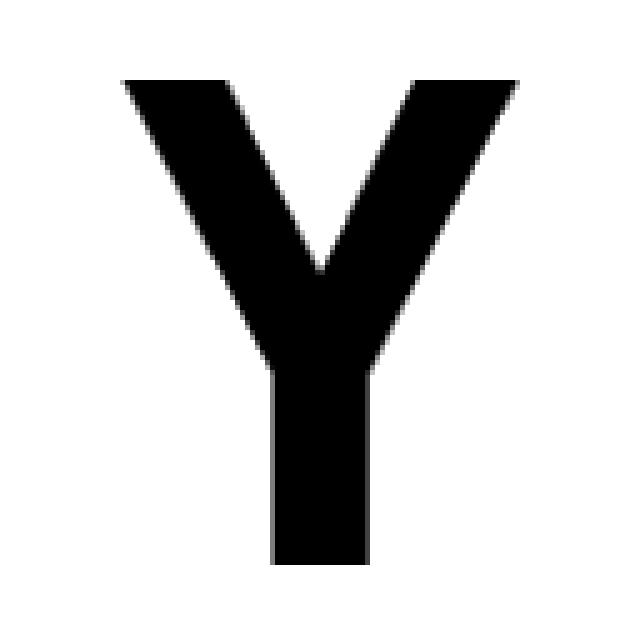Y: (115, 65, 520, 565)
